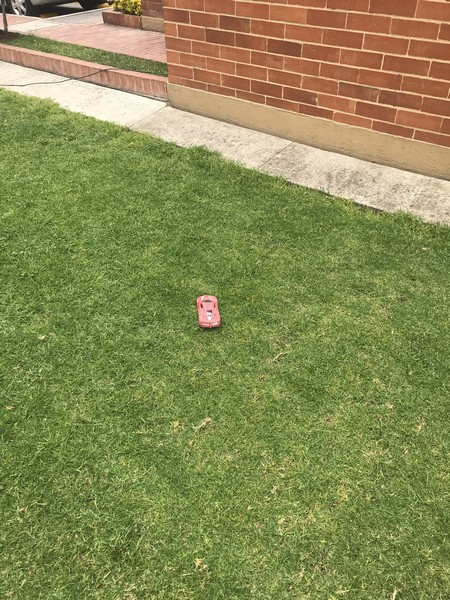RC: (195, 292, 222, 329)
